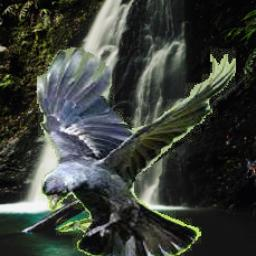Crow: (36, 46, 238, 256)
Swallow: (245, 156, 256, 178)
